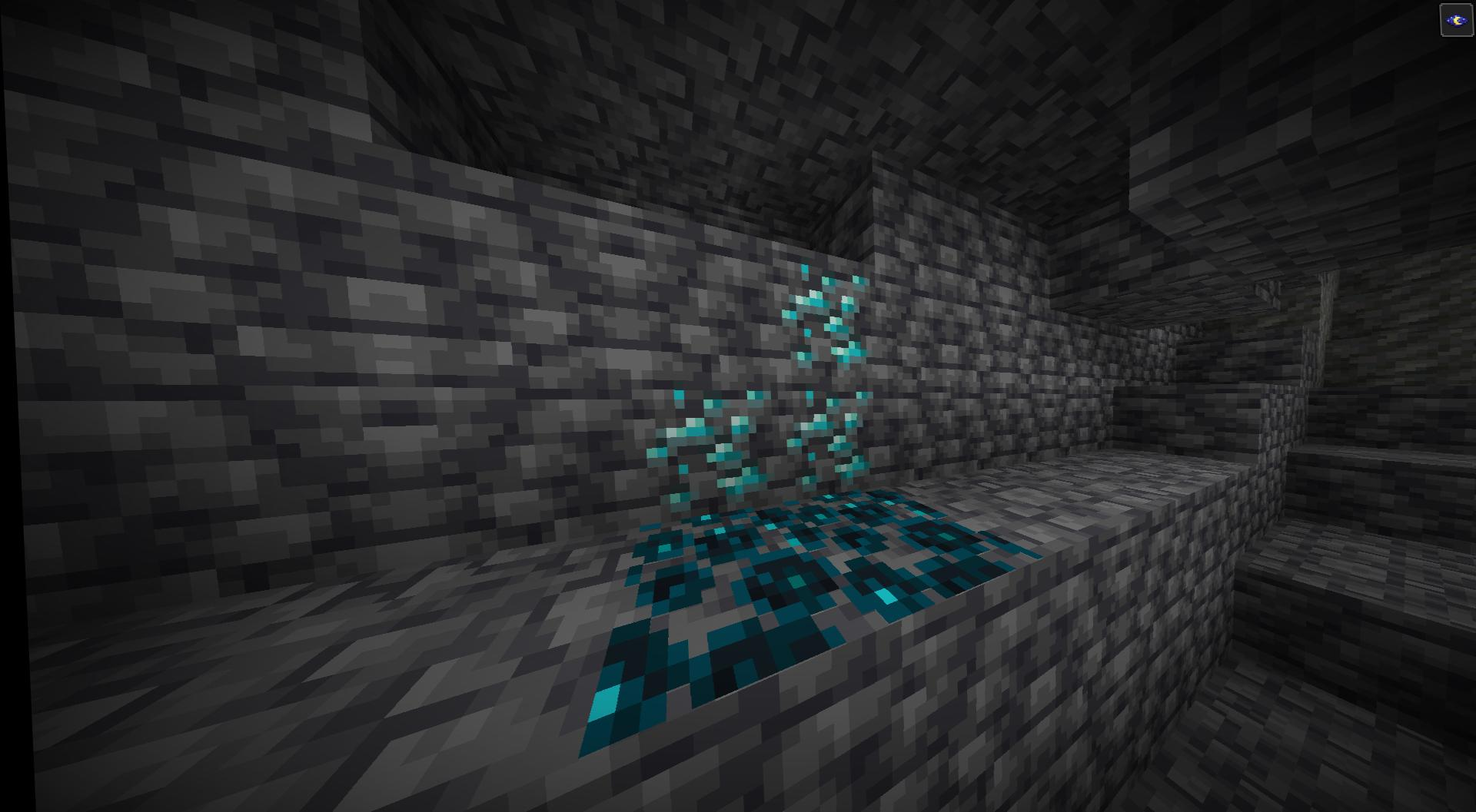diamond ore: (645, 384, 777, 508), (767, 269, 879, 366), (780, 384, 877, 487)
